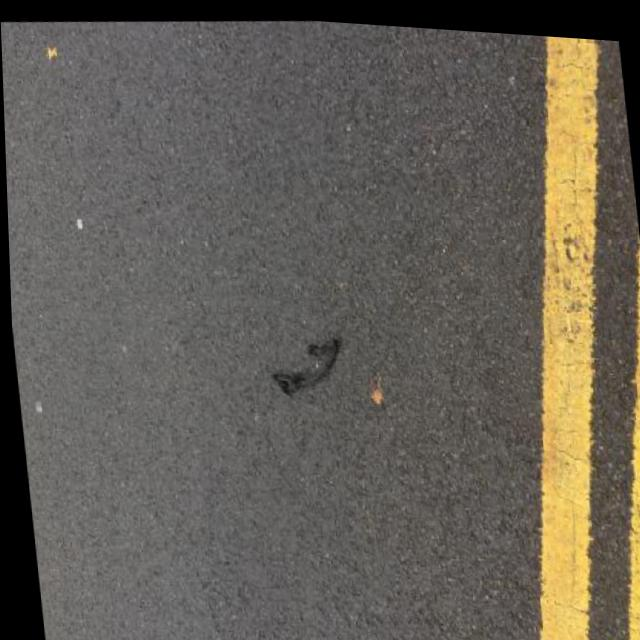other: (266, 335, 344, 403)
